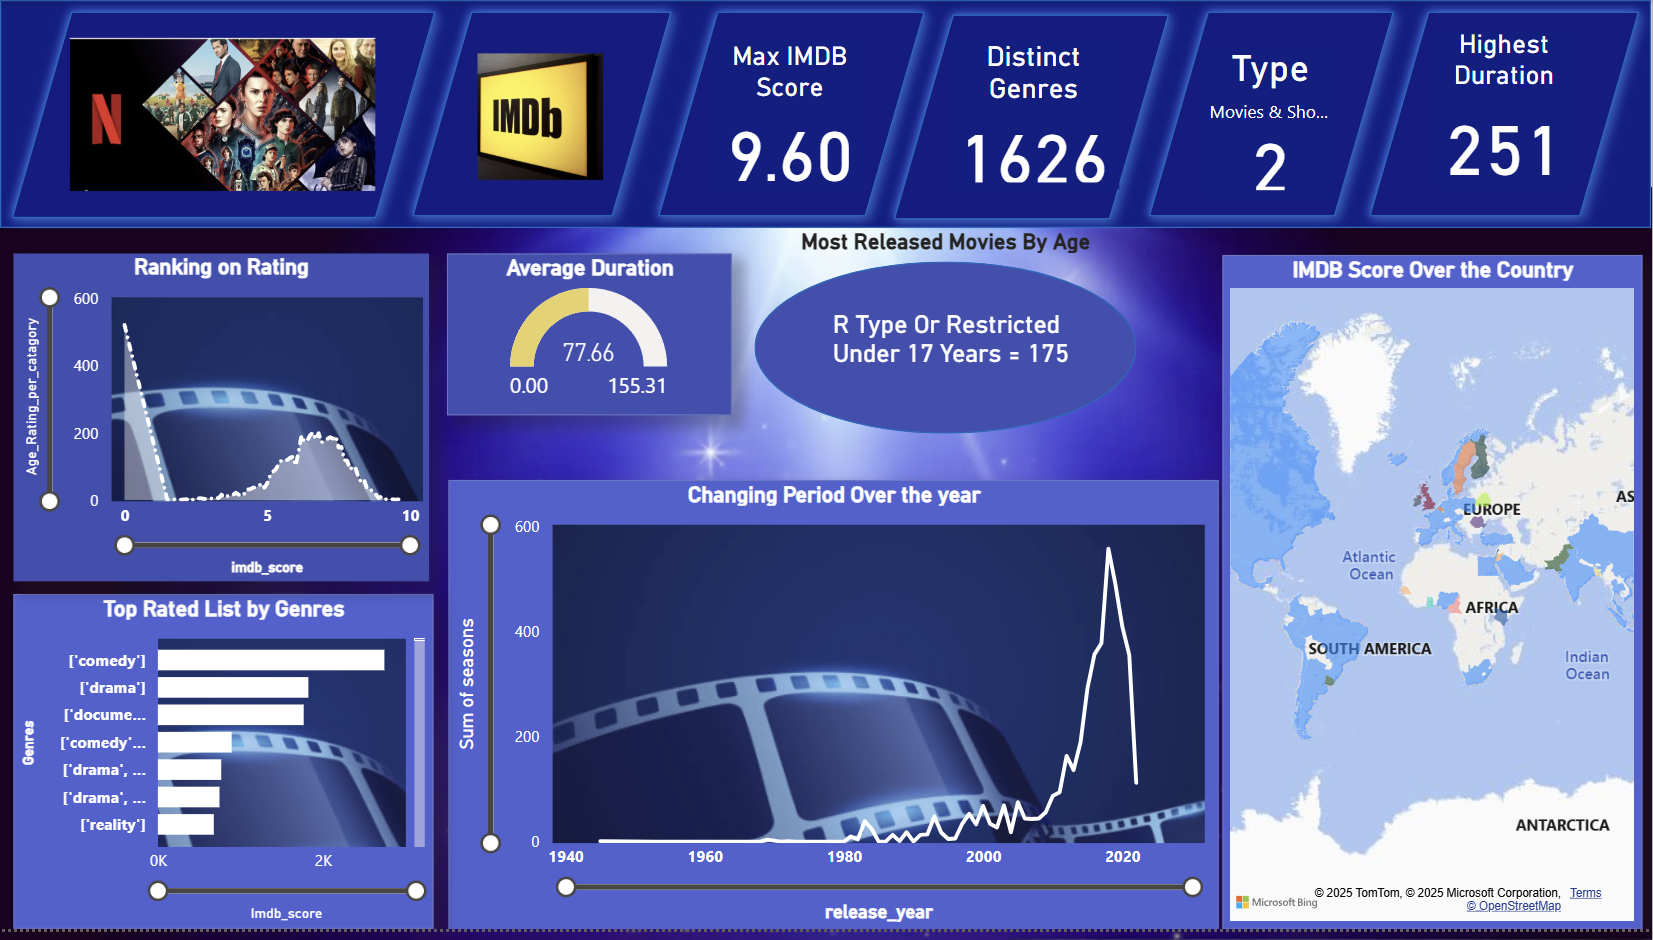

Layout of this report page (visuals, bound fields, positions):
{"tool":"powerbi","page":{"name":"Netflix Movies & Shows","canvas":[1280,720],"ordinal":0},"visuals":[{"type":"shape","box":[0,0,1279.5,176.9],"z":0},{"type":"shape","box":[1051.9,0,227.7,176.9],"z":1000},{"type":"card","title":"Highest Duration","fields":{"Values":["Max(IMDB Movies_Shows.runtime)"]},"box":[1110.9,21.9,108.3,124.8],"z":2000},{"type":"shape","box":[880.5,0,208.5,176.9],"z":3000},{"type":"shape","box":[683,2.7,231.8,176.9],"z":4000},{"type":"card","title":"Distinct Genres ","fields":{"Values":["Count(IMDB Movies_Shows.genres)"]},"box":[735.1,32.9,131.7,113.8],"z":5000},{"type":"card","title":"Type","fields":{"Values":["Count(IMDB Movies_Shows.type)"]},"box":[932.6,35.7,104.2,116.6],"z":6000},{"type":"shape","box":[500.6,0,224.9,176.9],"z":7000},{"type":"card","title":"Max IMDB Score","fields":{"Values":["IMDB Movies_Shows.Measure"]},"box":[551.3,31.5,122.1,115.2],"z":8000},{"type":"lineChart","title":"Changing Period Over the year","fields":{"Category":["IMDB Movies_Shows.release_year"],"Y":["Sum(IMDB Movies_Shows.seasons)"]},"box":[347,371.7,596.6,348.3],"z":9000},{"type":"shape","box":[0,0,347,178.3],"z":10000},{"type":"image","box":[49.4,0,246.9,176.9],"z":11000},{"type":"shape","box":[309.9,0,219.4,176.9],"z":12000},{"type":"image","box":[353.8,35.7,130.3,108.3],"z":13000},{"type":"clusteredBarChart","title":"Top Rated List by Genres","fields":{"Category":["IMDB Movies_Shows.genres"],"Y":["Sum(IMDB Movies_Shows.imdb_score)"]},"box":[11,460.8,325,259.2],"z":14000},{"type":"stackedAreaChart","title":"Ranking on Rating ","fields":{"Category":["IMDB Movies_Shows.imdb_score"],"Y":["IMDB Movies_Shows.Age_Rating_per_catagory"]},"box":[11,196.1,322.3,253.7],"z":15000},{"type":"gauge","title":"Average Duration","fields":{"Y":["Avg(IMDB Movies_Shows.runtime)"]},"box":[346.9,196,220.6,125.2],"z":16000},{"type":"shape","title":"Most Released Movies By Age","box":[584.2,176.9,296.2,159.1],"z":17000},{"type":"textbox","box":[640.5,234.5,207.1,75.4],"z":18000},{"type":"filledMap","title":"IMDB Score Over the Country ","fields":{"Category":["IMDB Movies_Shows.production_countries"],"Series":["IMDB Movies_Shows.imdb_score"]},"box":[947.7,197.5,325,522.5],"z":19000}]}

Visuals, with their boxes in screenshot pixels (x1, y1, x2, y2), scaled from the page's 1280x720 canvas onto the 1653x940 screenshot:
shape: l=0, t=0, r=1652, b=231
shape: l=1358, t=0, r=1652, b=231
"Highest Duration" card: l=1435, t=29, r=1574, b=192
shape: l=1137, t=0, r=1406, b=231
shape: l=882, t=4, r=1181, b=234
"Distinct Genres " card: l=949, t=43, r=1119, b=192
"Type" card: l=1204, t=47, r=1339, b=199
shape: l=646, t=0, r=937, b=231
"Max IMDB Score" card: l=712, t=41, r=870, b=192
"Changing Period Over the year" lineChart: l=448, t=485, r=1219, b=939
shape: l=0, t=0, r=448, b=233
image: l=64, t=0, r=383, b=231
shape: l=400, t=0, r=684, b=231
image: l=457, t=47, r=625, b=188
"Top Rated List by Genres" clusteredBarChart: l=14, t=602, r=434, b=939
"Ranking on Rating " stackedAreaChart: l=14, t=256, r=430, b=587
"Average Duration" gauge: l=448, t=256, r=733, b=419
"Most Released Movies By Age" shape: l=754, t=231, r=1137, b=439
textbox: l=827, t=306, r=1095, b=405
"IMDB Score Over the Country " filledMap: l=1224, t=258, r=1644, b=939
